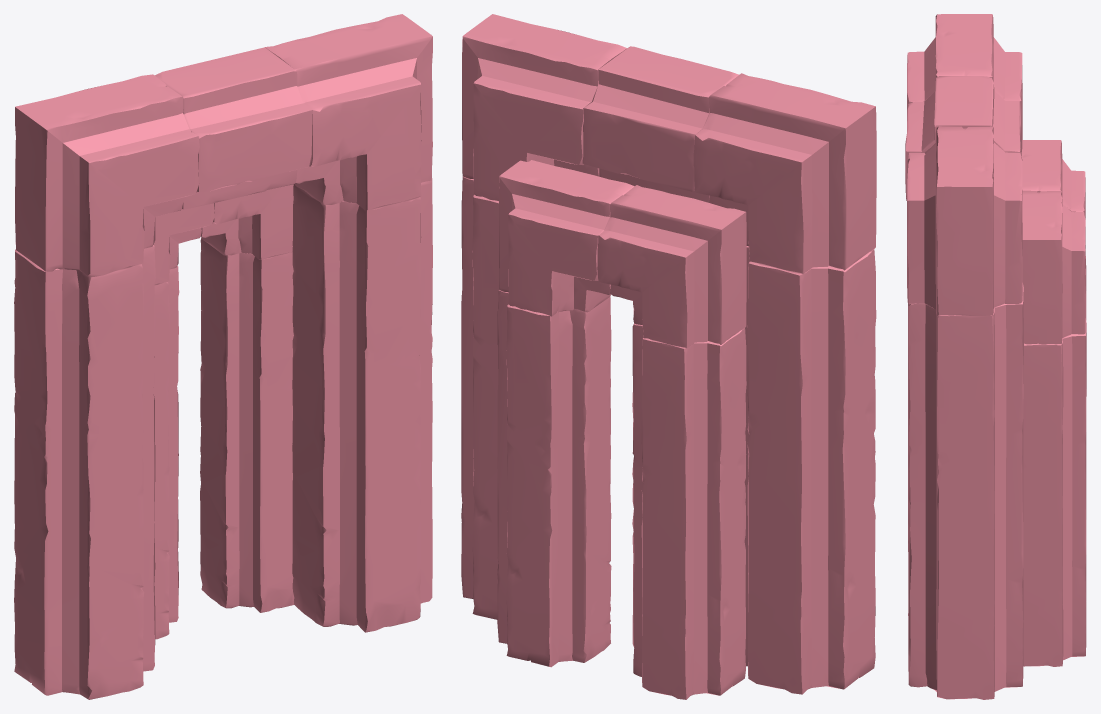
The model's file is cluster_stone_06_b.fbx.
3 views of the same model, side by side, from view 1: azimuth 30°, elevation 25°; view 2: azimuth 150°, elevation 25°; view 3: azimuth 270°, elevation 25° (orthographic). The views are drawn at different scales.
Parts seen in each view (by area): view 1: cluster_stone_06_b_LOD0; view 2: cluster_stone_06_b_LOD0; view 3: cluster_stone_06_b_LOD0.
Part boxes in pixels (left/top/right/bottom): cluster_stone_06_b_LOD0: left=14, top=14, right=432, bottom=699; cluster_stone_06_b_LOD0: left=461, top=14, right=876, bottom=699; cluster_stone_06_b_LOD0: left=905, top=14, right=1086, bottom=699.
Size of what is drawn, in the model's own units: 458 by 640 by 204.
